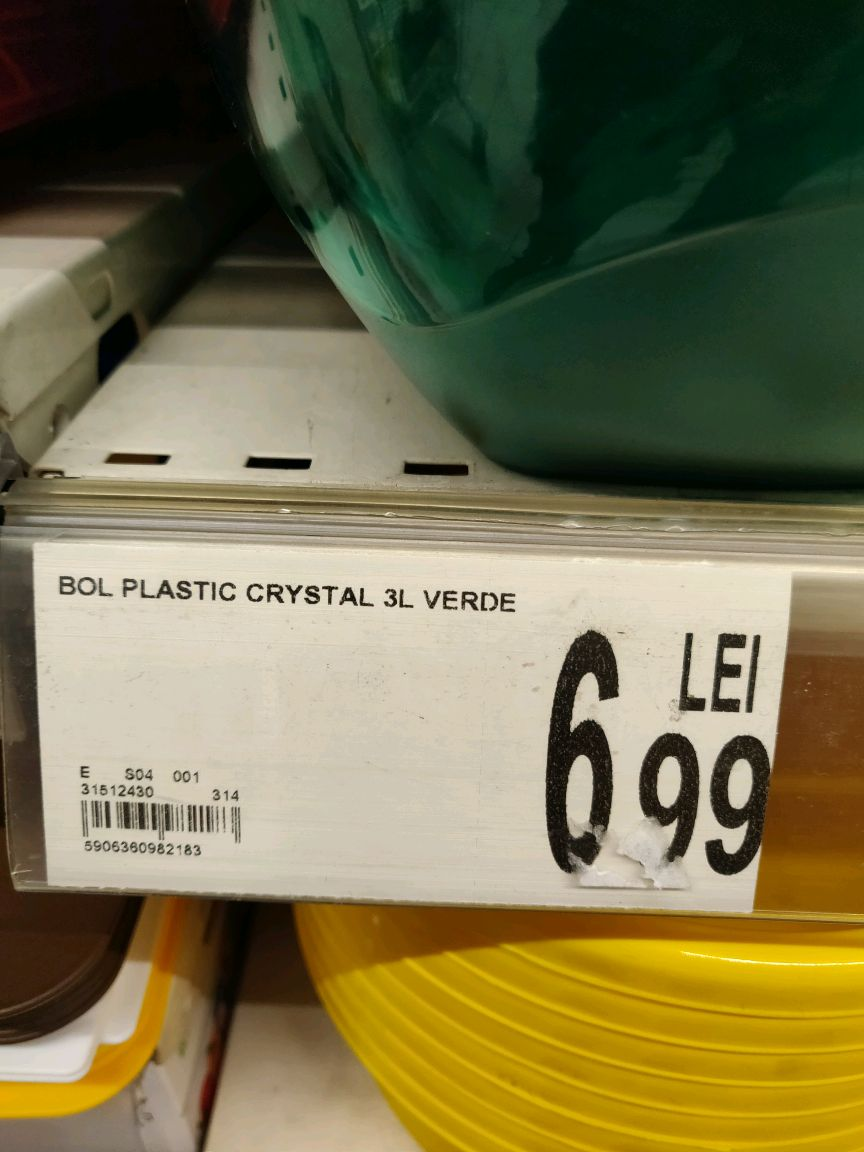price_bani: (636, 720, 778, 890)
price_lei: (533, 621, 628, 885)
price_tag: (25, 538, 802, 937)
product_id: (76, 838, 215, 862)
product_name: (53, 567, 528, 627)
